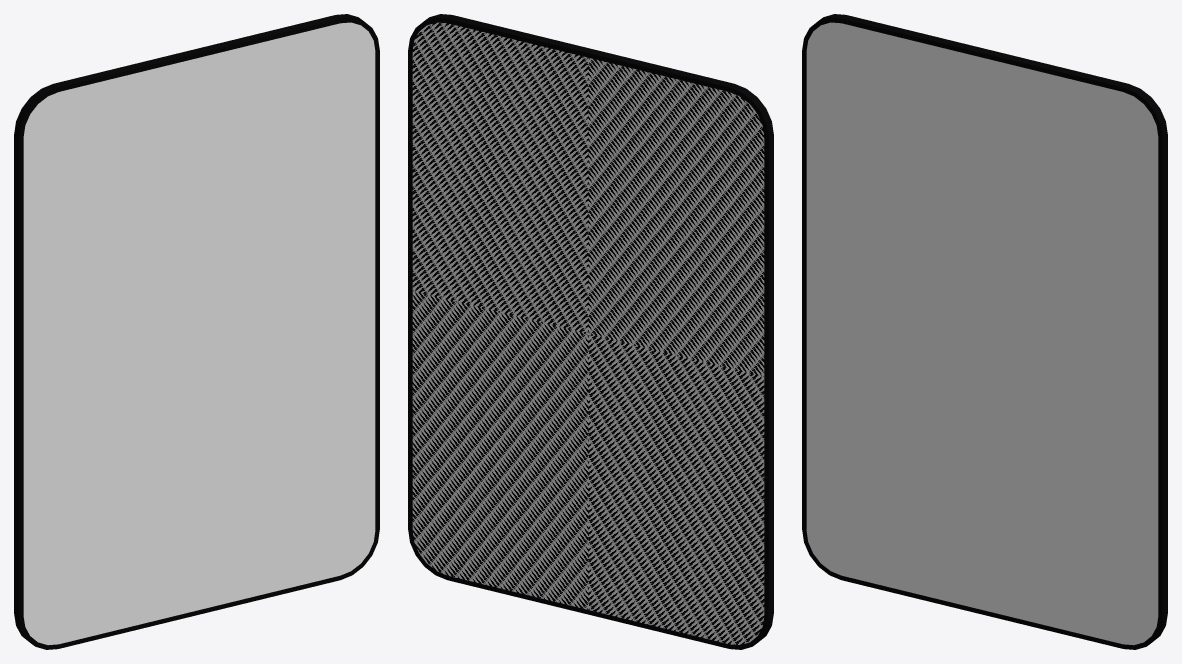
Rendered from playing_card.fbx.
3 views of the same model, side by side, from view 1: azimuth 30°, elevation 25°; view 2: azimuth 150°, elevation 25°; view 3: azimuth 330°, elevation 25° (orthographic).
Parts seen in each view (by area): view 1: playingcard; view 2: playingcard; view 3: playingcard.
Boxes of the visible parts, x1,y1,x2,y2 form: playingcard: (14, 14, 379, 649); playingcard: (408, 14, 773, 649); playingcard: (802, 14, 1167, 649).
Bounding box in the file's own units: 2.05 × 3.05 × 0.05.
